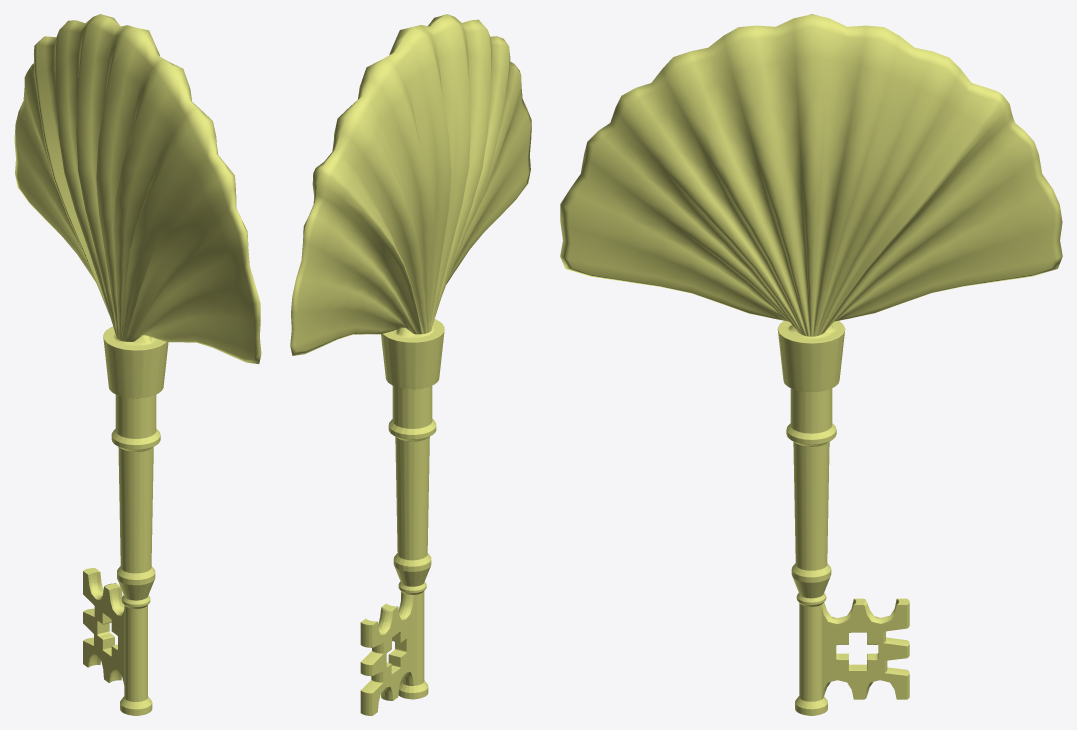
The model's file is Key_Model.fbx.
3 views of the same model, side by side, from view 1: azimuth 30°, elevation 25°; view 2: azimuth 150°, elevation 25°; view 3: azimuth 270°, elevation 25° (orthographic). The views are drawn at different scales.
Parts seen in each view (by area): view 1: pCone5; view 2: pCone5; view 3: pCone5.
Boxes of the visible parts, <box> form: pCone5: <box>14,14,261,715</box>; pCone5: <box>290,14,531,715</box>; pCone5: <box>560,14,1062,715</box>.
Bounding box in the file's own units: 3.22 × 26.42 × 17.24.
